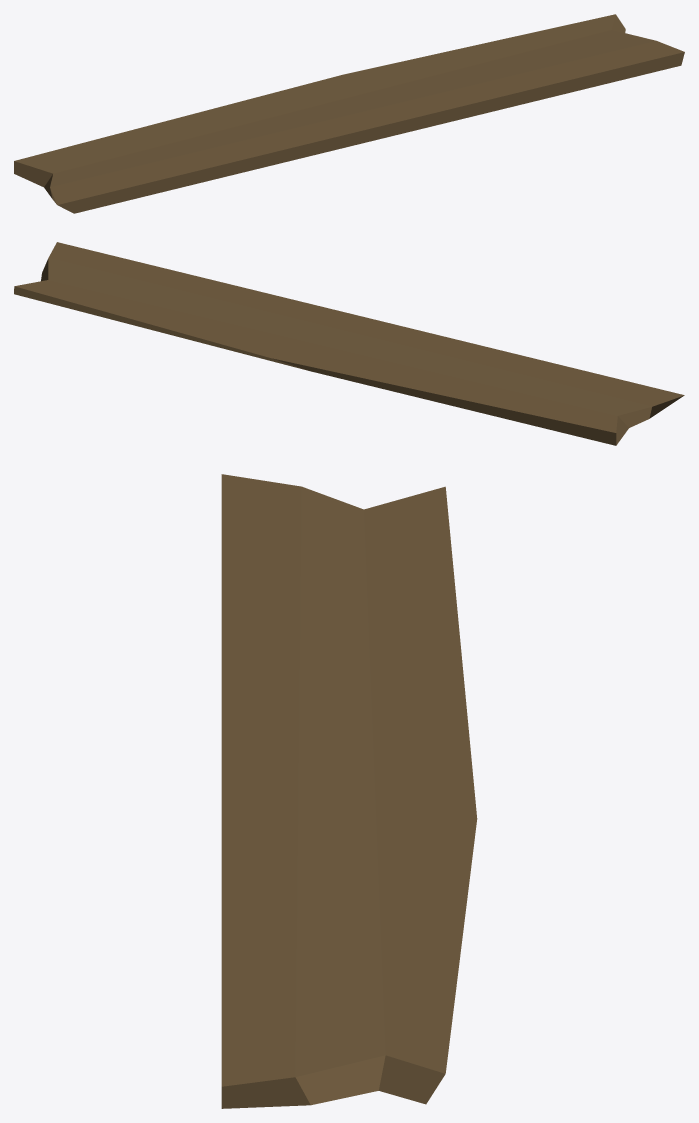
The model's file is island_plank.fbx.
3 views of the same model, one above another, from view 1: azimuth 30°, elevation 25°; view 2: azimuth 150°, elevation 25°; view 3: azimuth 270°, elevation 25° (orthographic). The views are drawn at different scales.
Visible parts, largest first — view 1: Cube.030; view 2: Cube.030; view 3: Cube.030.
Boxes of the visible parts, box(x1,y1,x2,y2) form: Cube.030: box(14, 14, 684, 213); Cube.030: box(14, 242, 684, 445); Cube.030: box(221, 474, 477, 1108).
Size of the model in its own units: 2.05 by 0.04 by 0.3619.
